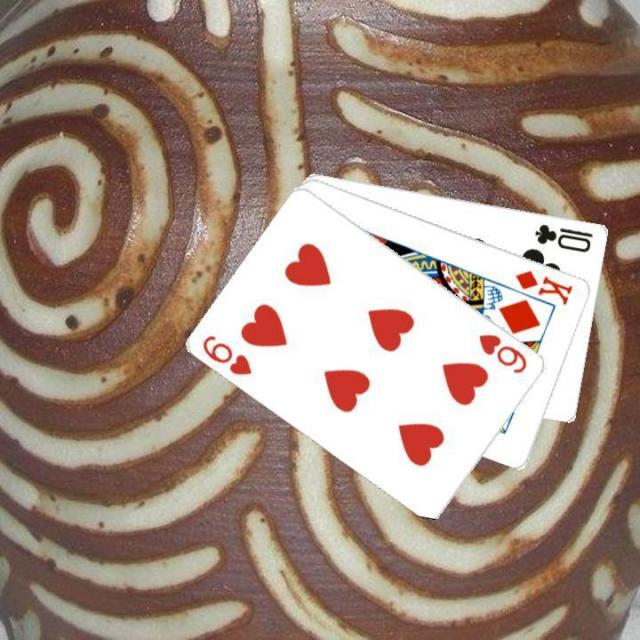10C: (530, 220, 596, 254)
6H: (198, 330, 254, 378), (474, 330, 530, 376)
KD: (511, 266, 575, 306)
